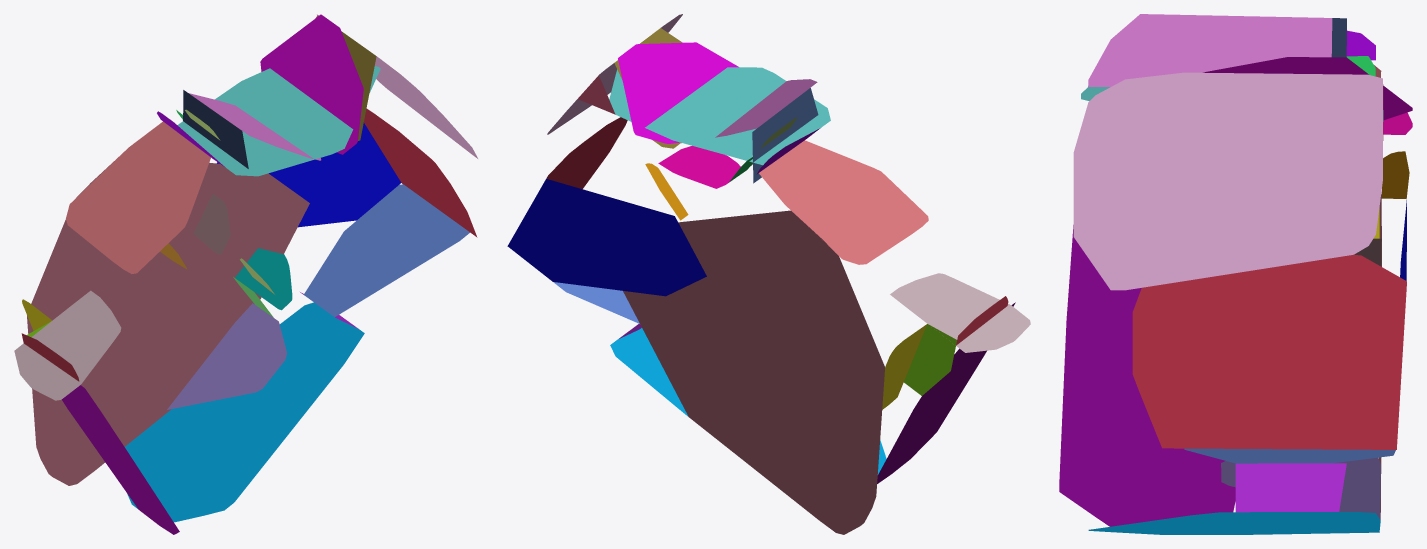
Rendered from office1_pr.glb.
The picture shows the model from 3 angles, left to right: view 1: azimuth 30°, elevation 25°; view 2: azimuth 150°, elevation 25°; view 3: azimuth 270°, elevation 25°; orthographic projection. The views are drawn at different scales.
Visible parts, largest first — view 1: world; view 2: world; view 3: world.
Boxes of the visible parts, x1,y1,x2,y2 form: world: (14, 14, 477, 534); world: (507, 14, 1030, 534); world: (1059, 14, 1412, 534).
Bounding box in the file's own units: 4.33 × 3.92 × 1.92.
